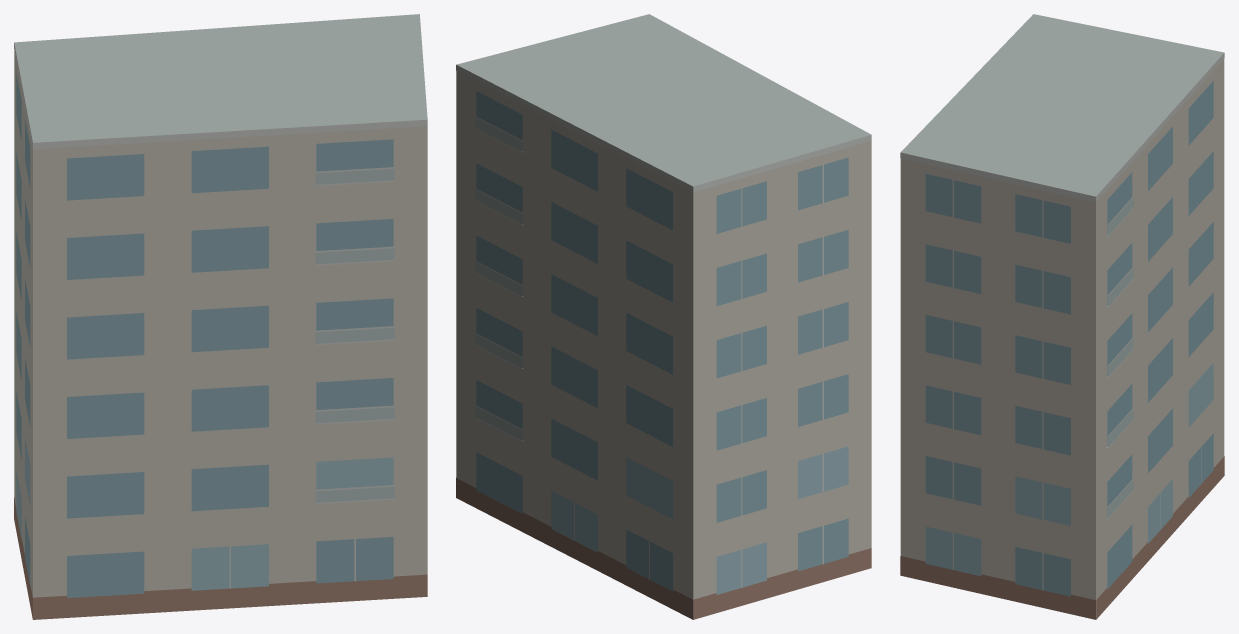
The model's file is survey-upis-32728416.glb.
3 renders of one model, left to right at view 1: azimuth 30°, elevation 25°; view 2: azimuth 150°, elevation 25°; view 3: azimuth 270°, elevation 25°, orthographic. The views are drawn at different scales.
Visible parts, largest first — view 1: survey-upis-32728416.tmp; view 2: survey-upis-32728416.tmp; view 3: survey-upis-32728416.tmp.
Boxes of the visible parts, box(x1,y1,x2,y2) form: survey-upis-32728416.tmp: box(14, 14, 427, 619); survey-upis-32728416.tmp: box(456, 14, 871, 619); survey-upis-32728416.tmp: box(900, 14, 1224, 619).
Size of the model in its own units: 16.49 by 17.8 by 12.36.
